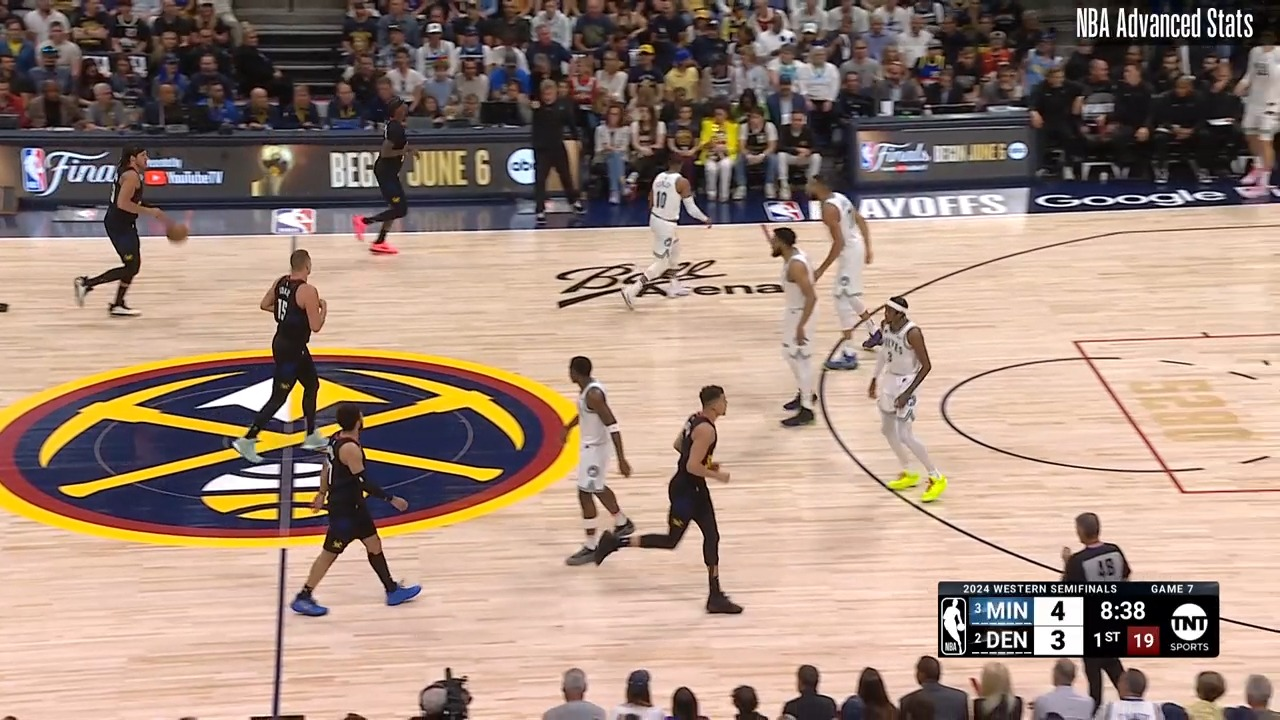basketball: (163, 217, 190, 246)
